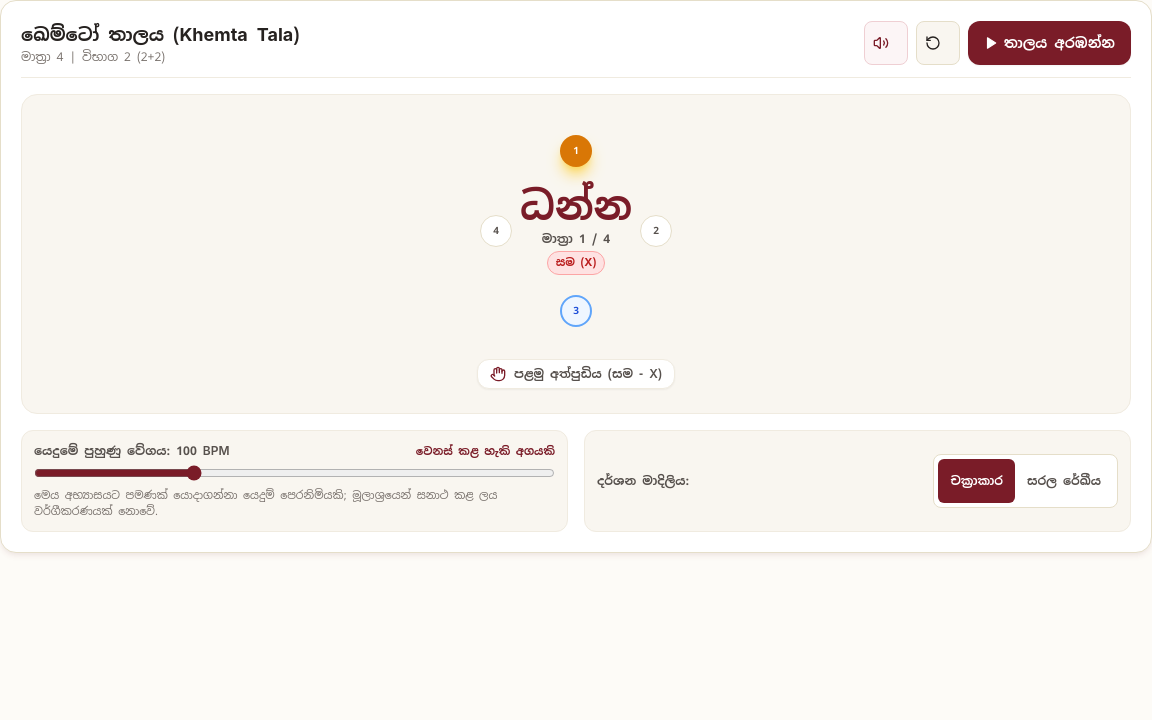
Test: TalaVisualizer playback and hydration ownership › suppresses stale Tala unavailable callbacks after reset and replacement
The width and height of the screenshot is (1152, 720).
Click the button "තාලය අරඹන්න" at (1050, 43), box top-left (968, 21), bottom-right (1131, 65)
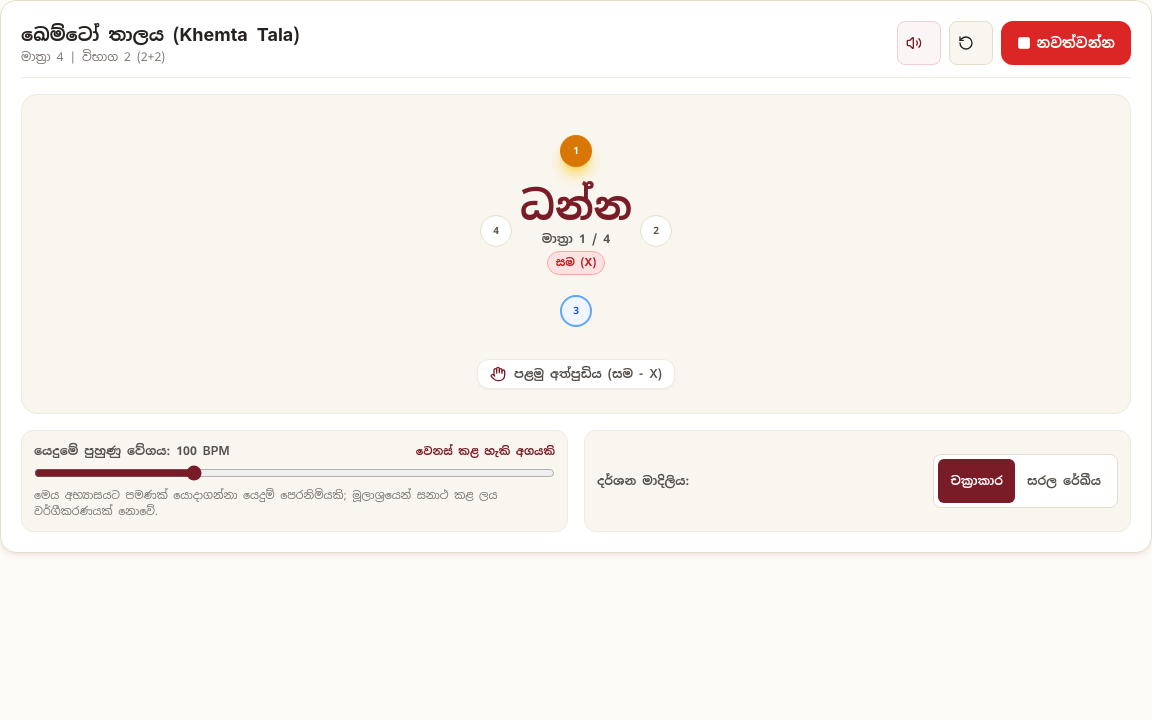
Click the button "නවත්වන්න" at (1066, 43), box top-left (1000, 21), bottom-right (1131, 65)
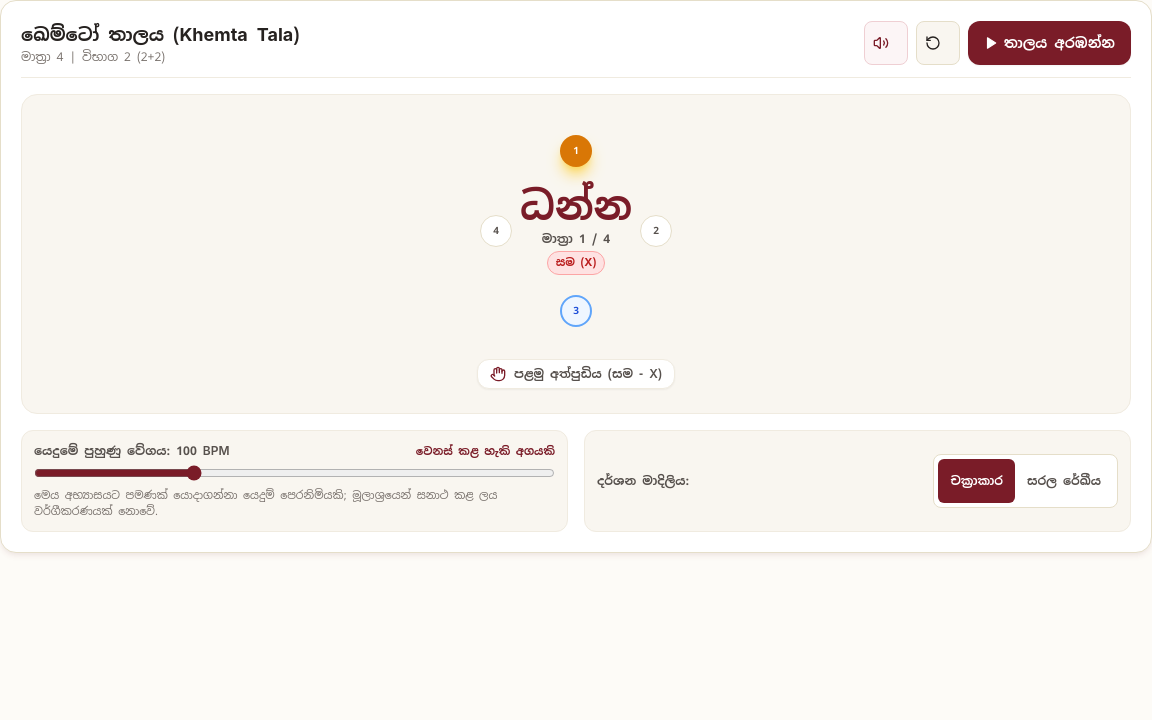
Click the button "තාලය අරඹන්න" at (1050, 43), box top-left (968, 21), bottom-right (1131, 65)
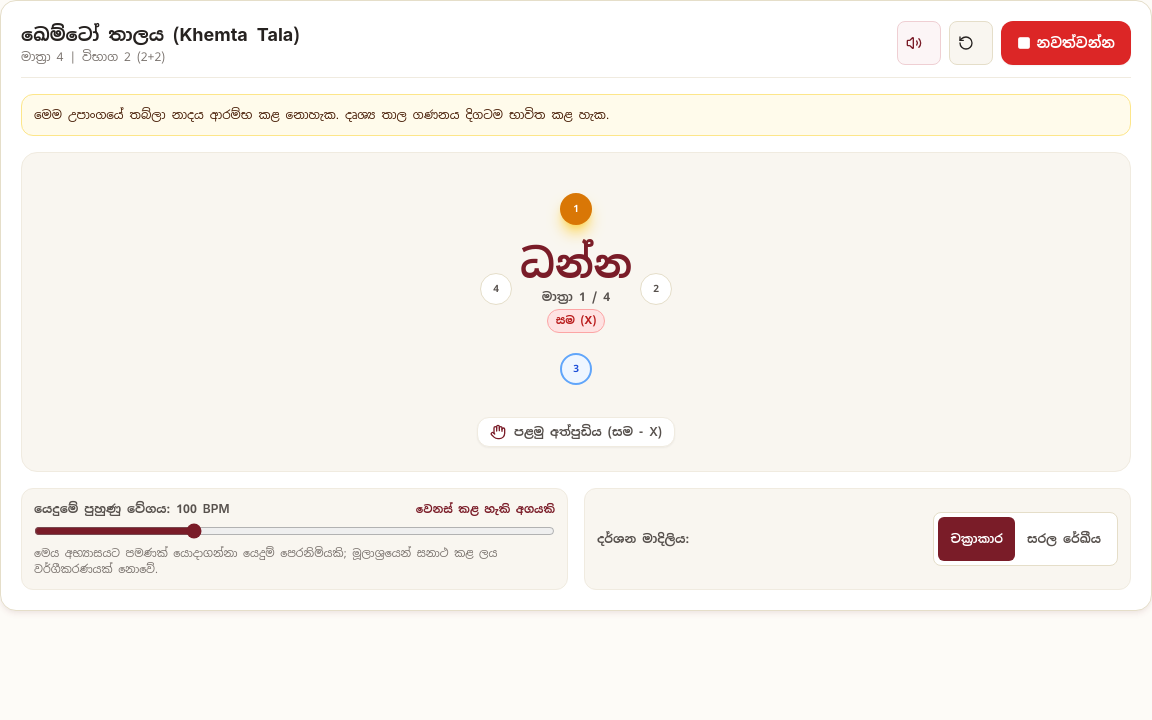
Expected: the message shows "තබ්ලා නාදය ආරම්භ කළ නොහැක", top-left (34, 107), bottom-right (609, 123)
